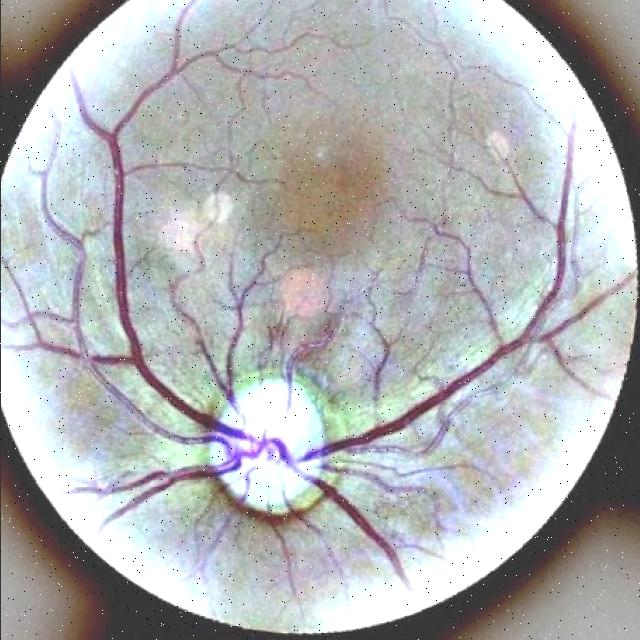Macula: (279, 256, 319, 320)
Nerves: (337, 114, 587, 456), (214, 414, 403, 577), (106, 144, 207, 433), (70, 252, 199, 451), (76, 446, 236, 503)
Optic Disk: (208, 378, 332, 513)
